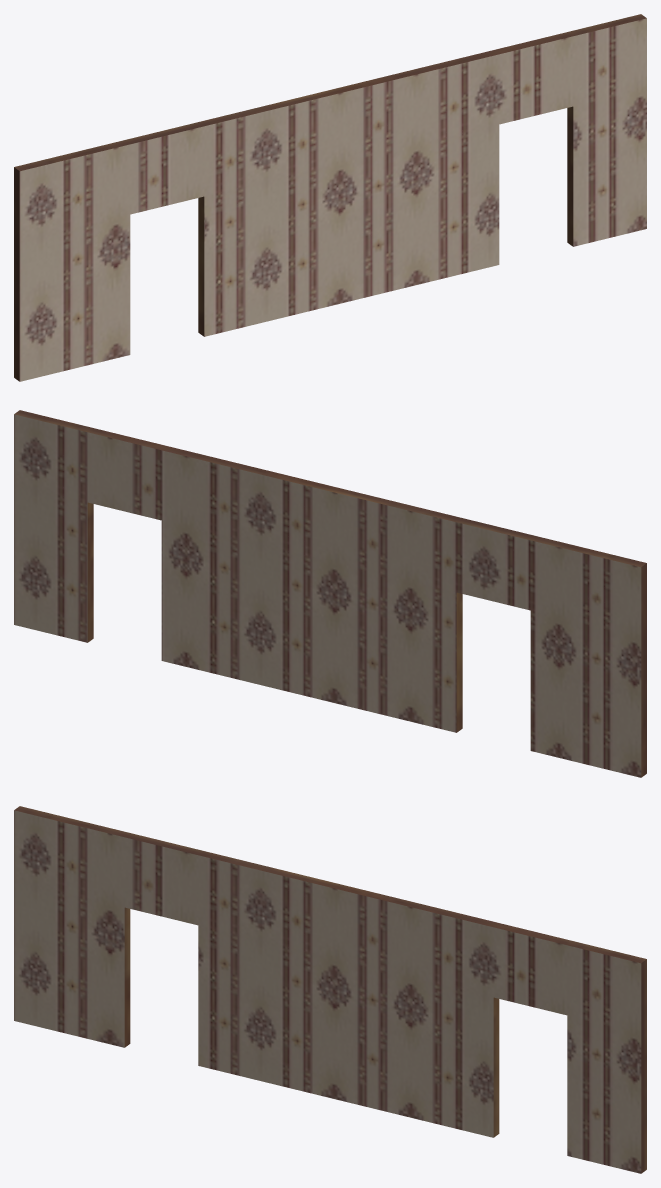
File: wall6.dae
The picture shows the model from 3 angles, top to bottom: view 1: azimuth 30°, elevation 25°; view 2: azimuth 150°, elevation 25°; view 3: azimuth 330°, elevation 25°; orthographic projection.
Parts seen in each view (by area): view 1: Plane.005; view 2: Plane.005; view 3: Plane.005.
Part boxes in pixels (x1,y1,x2,y2): Plane.005: [14, 14, 646, 381]; Plane.005: [14, 410, 646, 777]; Plane.005: [14, 806, 646, 1173].
Bounding box in the file's own units: 9.35 × 0.15 × 3.
Materials: 1 (1 with a texture image).
